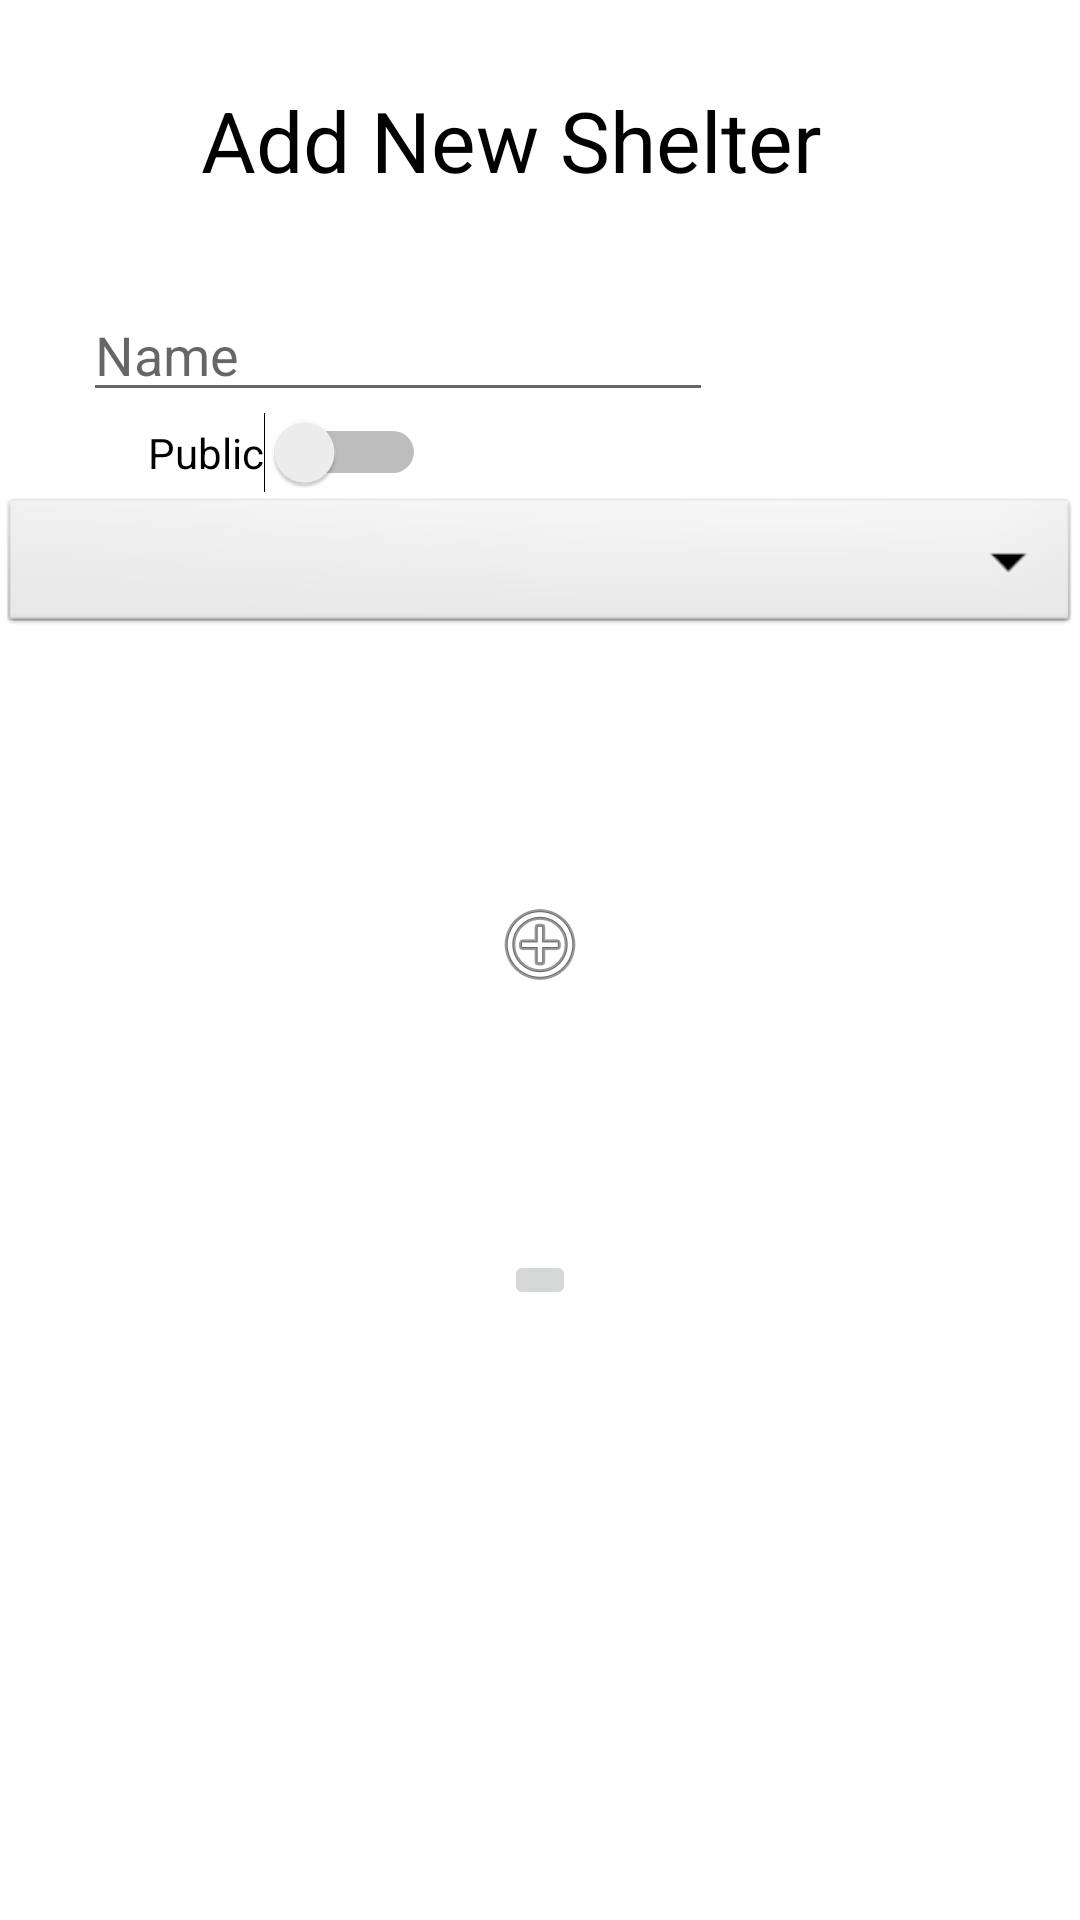

Where icons sit on this 1080px×1920px app screen, as (x1, y1, x2, y2):
add: (504, 909, 576, 980)
